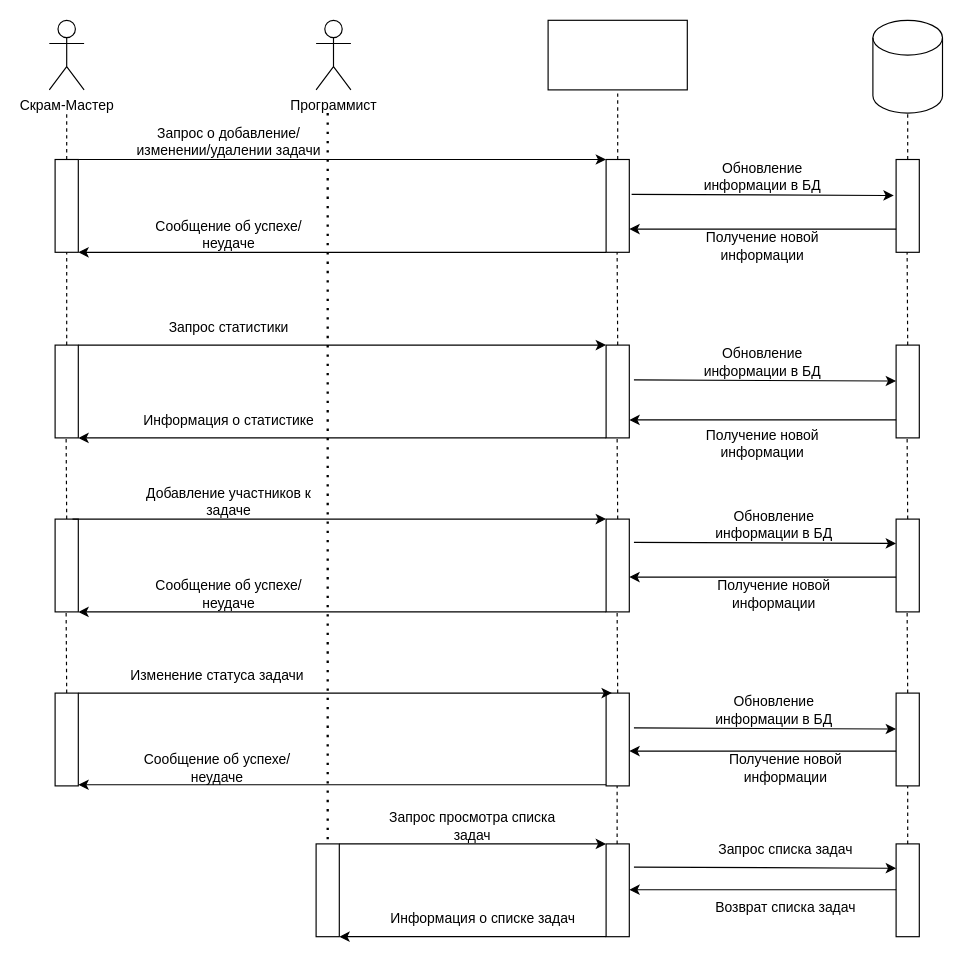
This 963x966 diagram has some shape labels left out. Each missing label, with the box of its shape:
БД: (872, 19, 942, 113)
Сервер: (547, 19, 687, 90)
